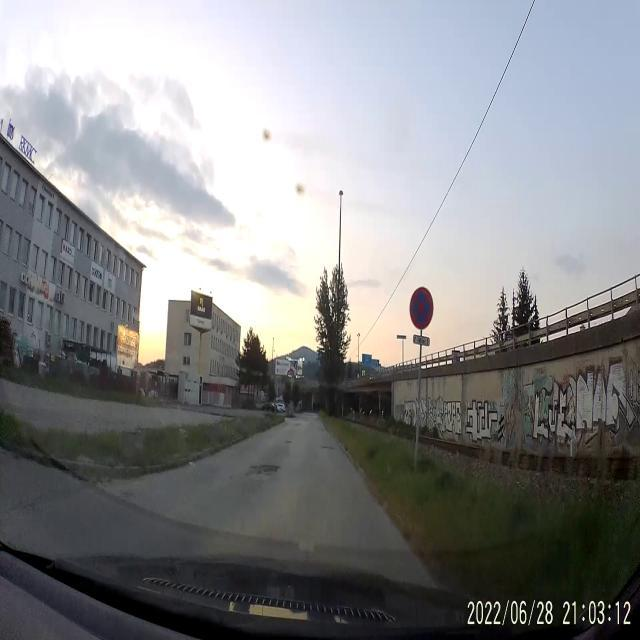Pothole: (244, 460, 280, 480), (322, 444, 334, 452), (286, 440, 292, 444), (294, 423, 300, 427)
